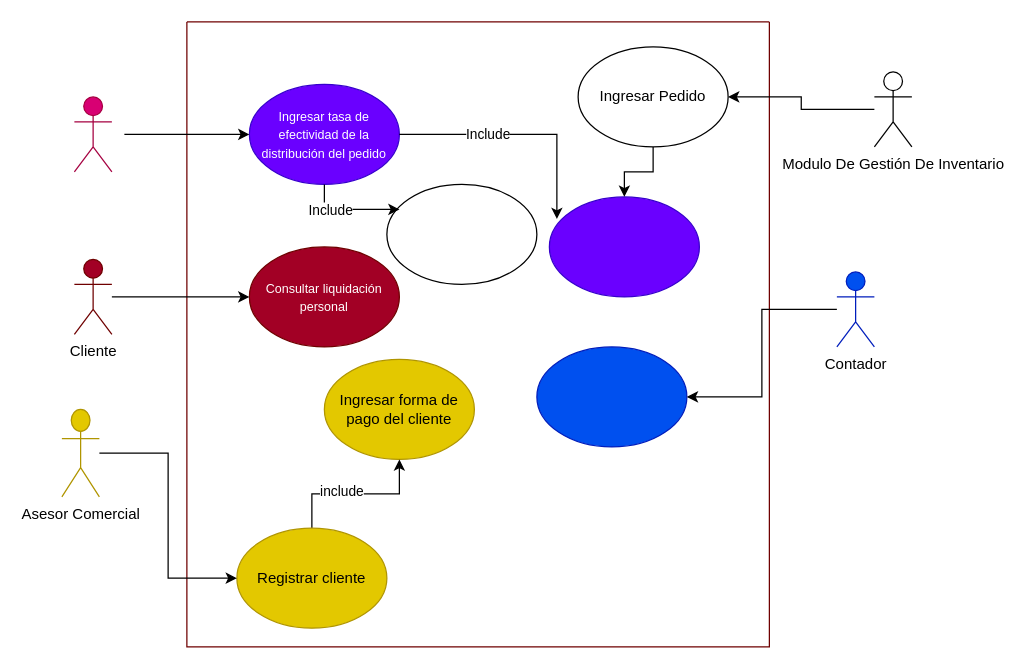
Some shapes in this 1025 by 669 pixel diagram are drawn without their labels. The shapes that lost their labels are listed below. From the top down, each one's box as (x1, y1, x2, y2) in pixels, then its label:
(73, 96, 112, 172): Modulo De Logistica
(386, 183, 537, 284): Generar Liquidación de Transportista
(548, 196, 699, 297): Generar Liquidación de cliene
(536, 346, 687, 447): Consultar liquidaciones
